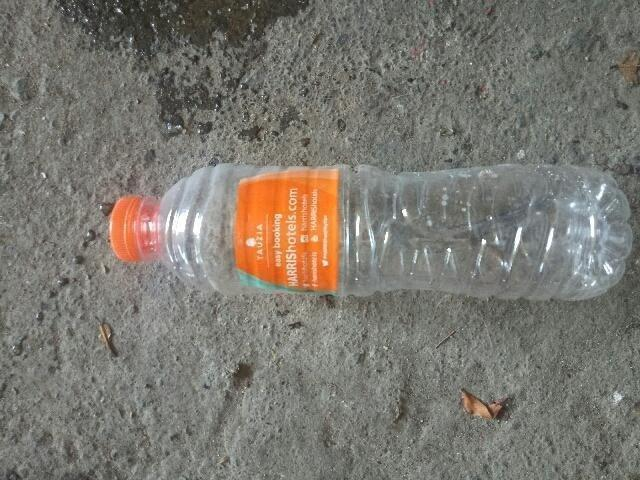bottle-plastic: (107, 160, 632, 302)
